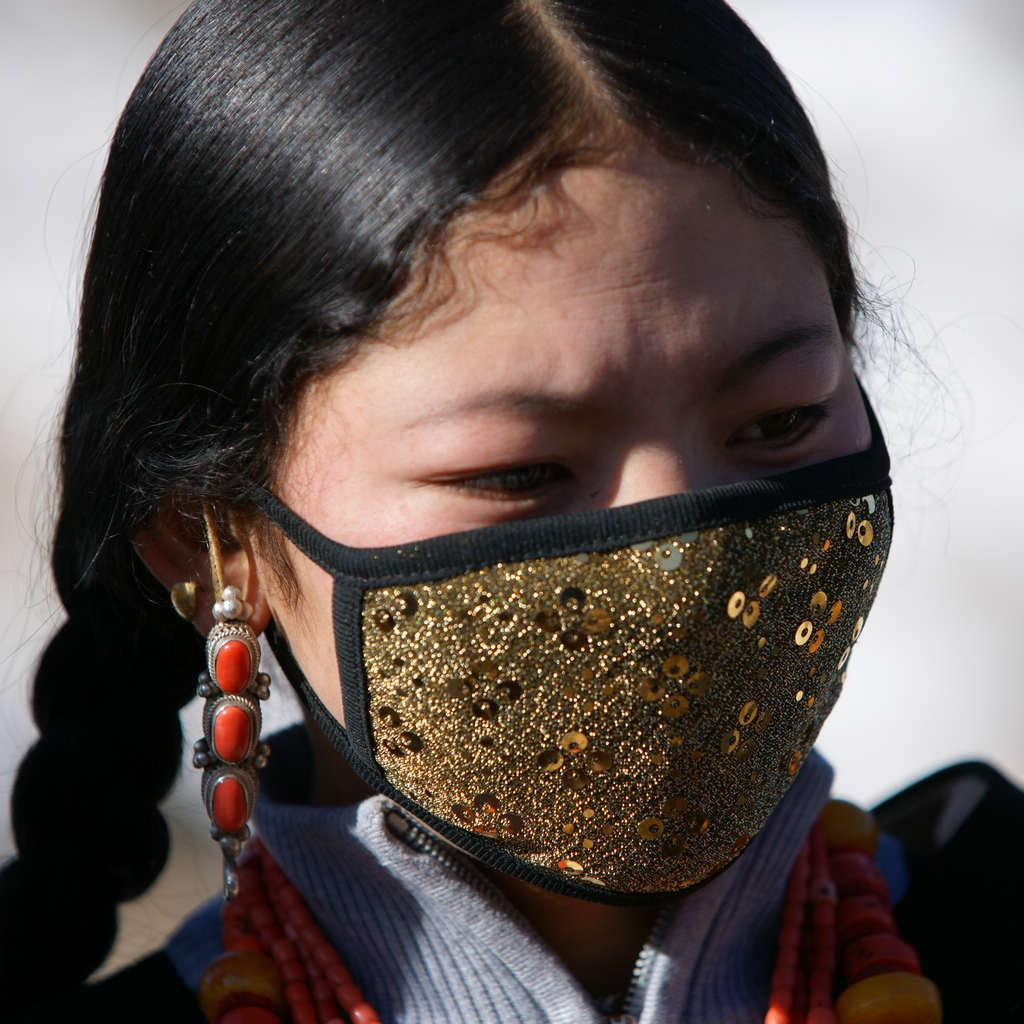OK: (331, 307, 897, 873)
